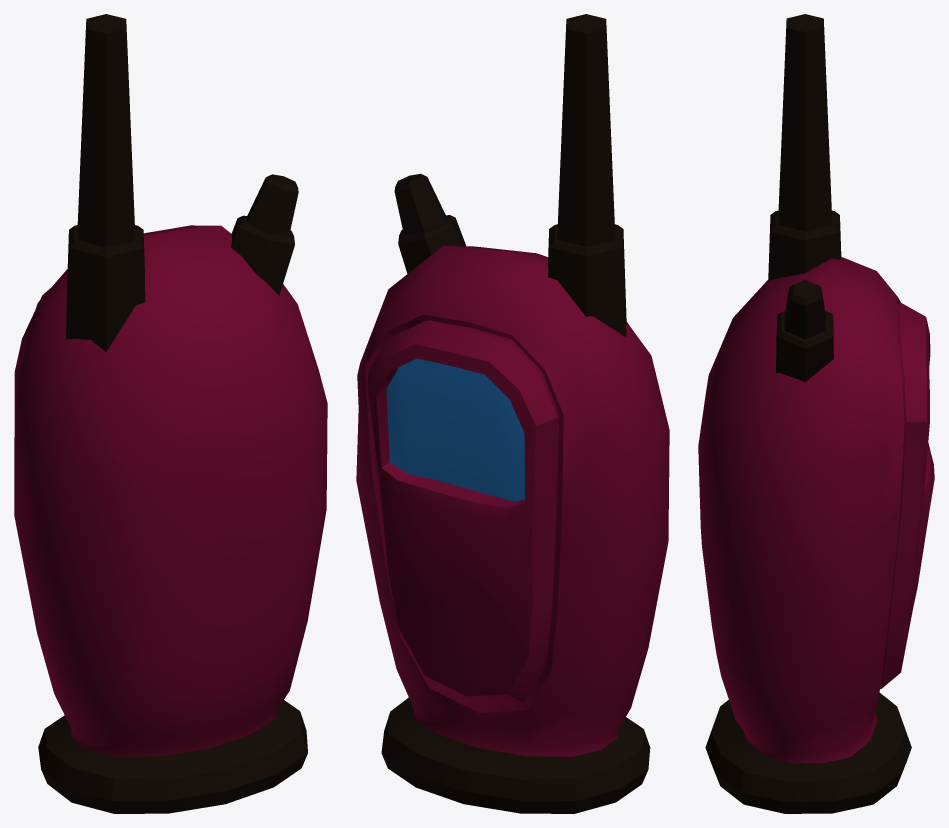
File: Radio transmitter.FBX
3 renders of one model, left to right at view 1: azimuth 30°, elevation 25°; view 2: azimuth 150°, elevation 25°; view 3: azimuth 270°, elevation 25°, orthographic. The views are drawn at different scales.
Parts seen in each view (by area): view 1: Radio transmitter; view 2: Radio transmitter; view 3: Radio transmitter.
Boxes of the visible parts, x1,y1,x2,y2 form: Radio transmitter: (14,14,327,813); Radio transmitter: (356,14,669,813); Radio transmitter: (698,14,934,813).
Size of the model in its own units: 474 by 369 by 1218.
